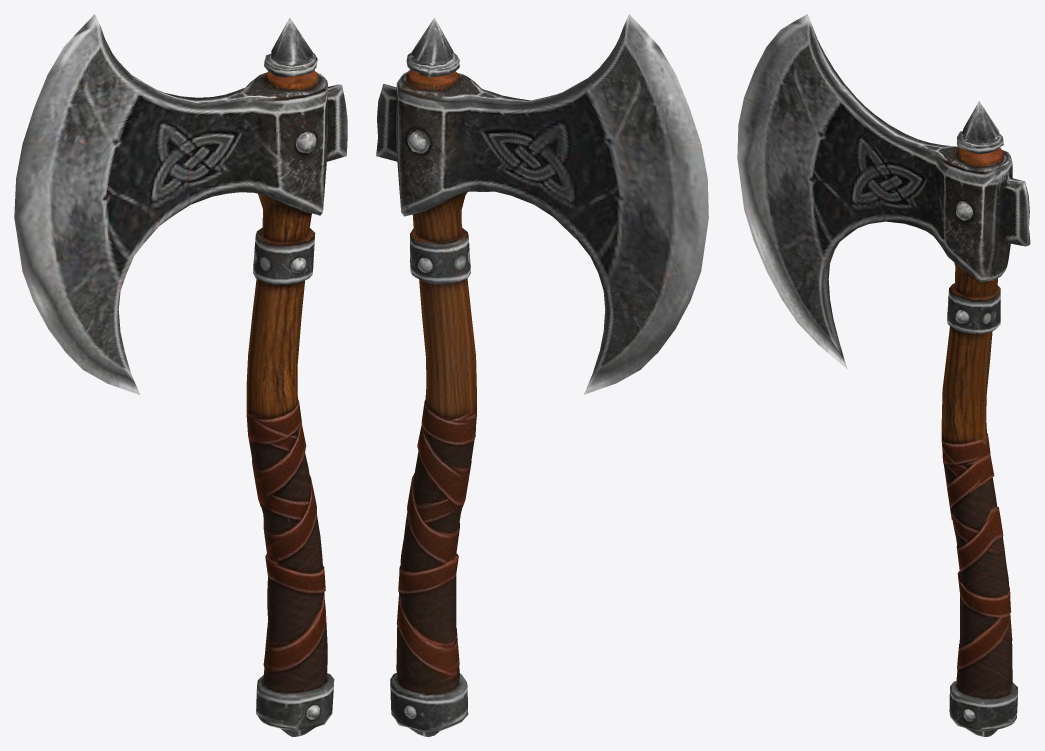
The model's file is runic-battle-axe.glb.
3 views of the same model, side by side, from view 1: azimuth 30°, elevation 25°; view 2: azimuth 150°, elevation 25°; view 3: azimuth 330°, elevation 25° (orthographic). The views are drawn at different scales.
Bounding box in the file's own units: 0.4521 × 1 × 0.0991.
1 material, 1 textured.
